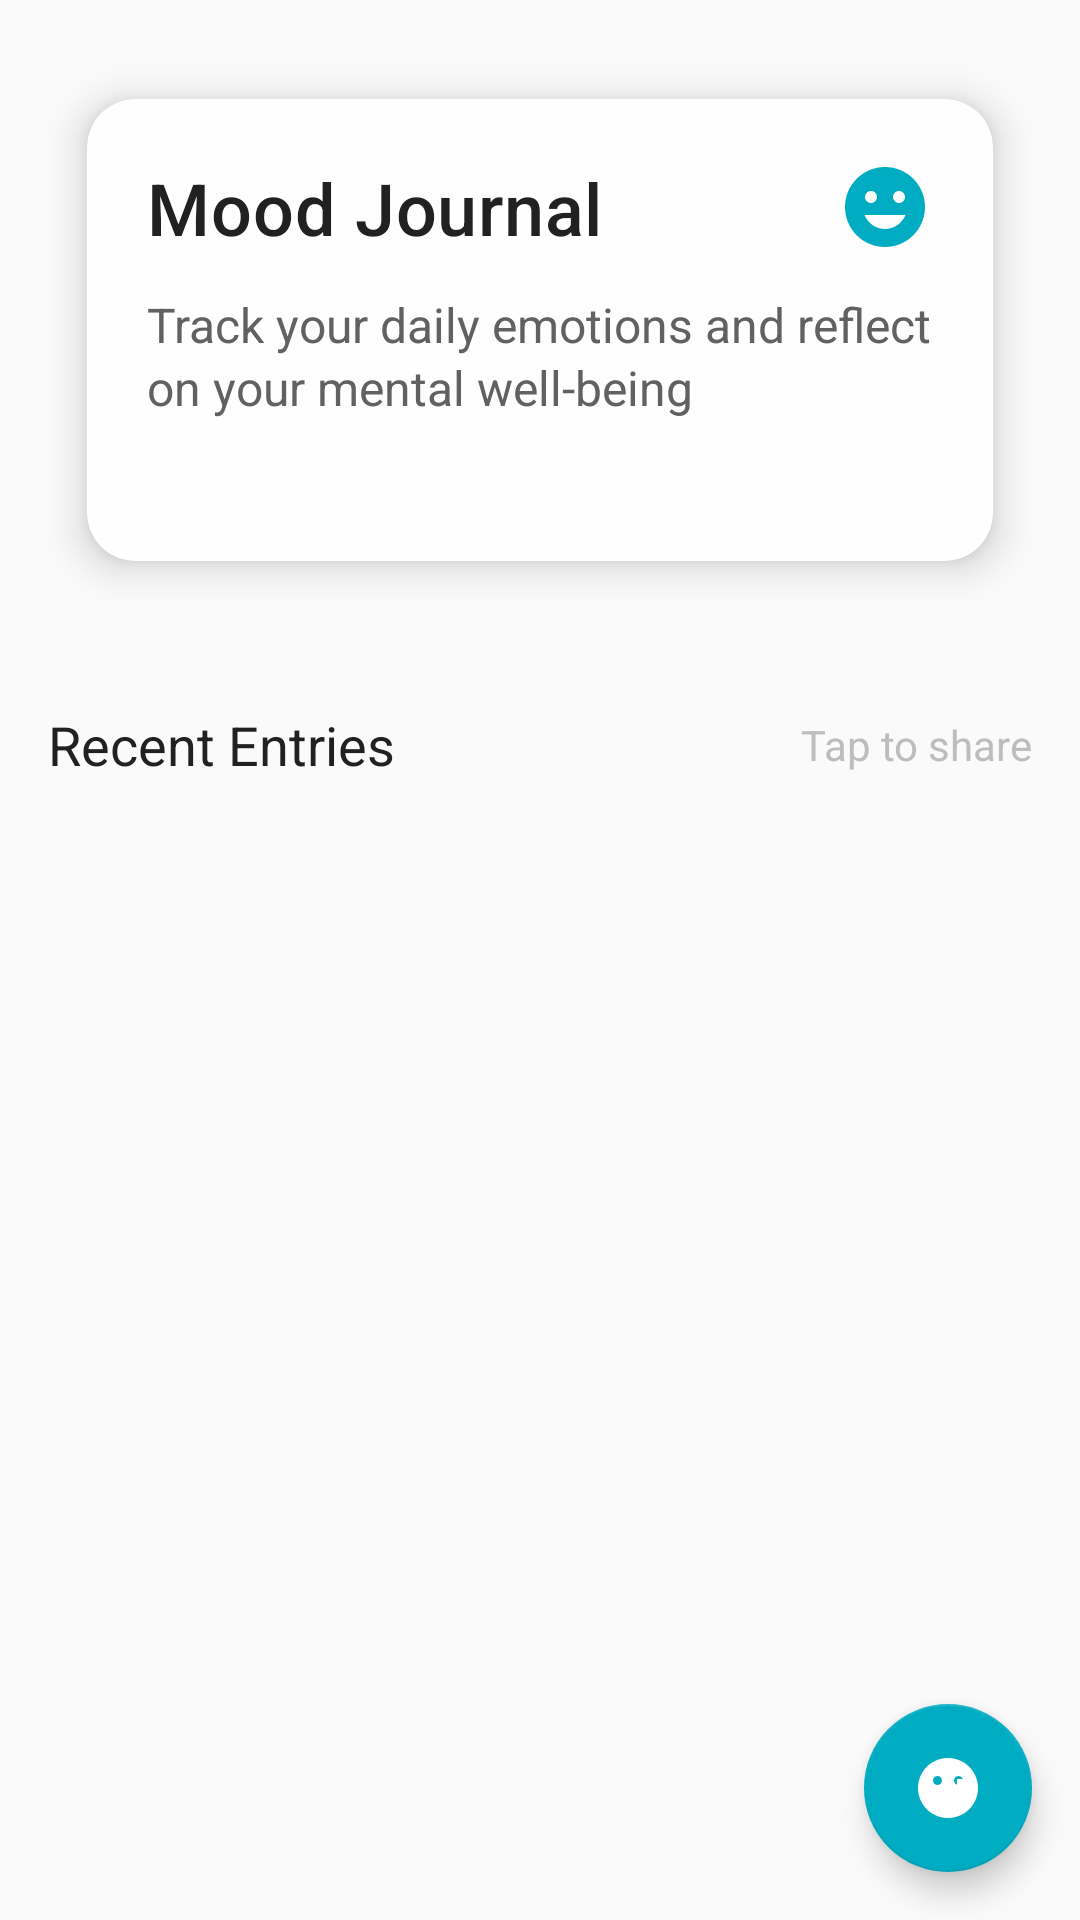

Screen size 1080 × 1920. Icon name, then its center in pixels as (x=x, y=y):
Add new mood entry: (x=948, y=1788)
